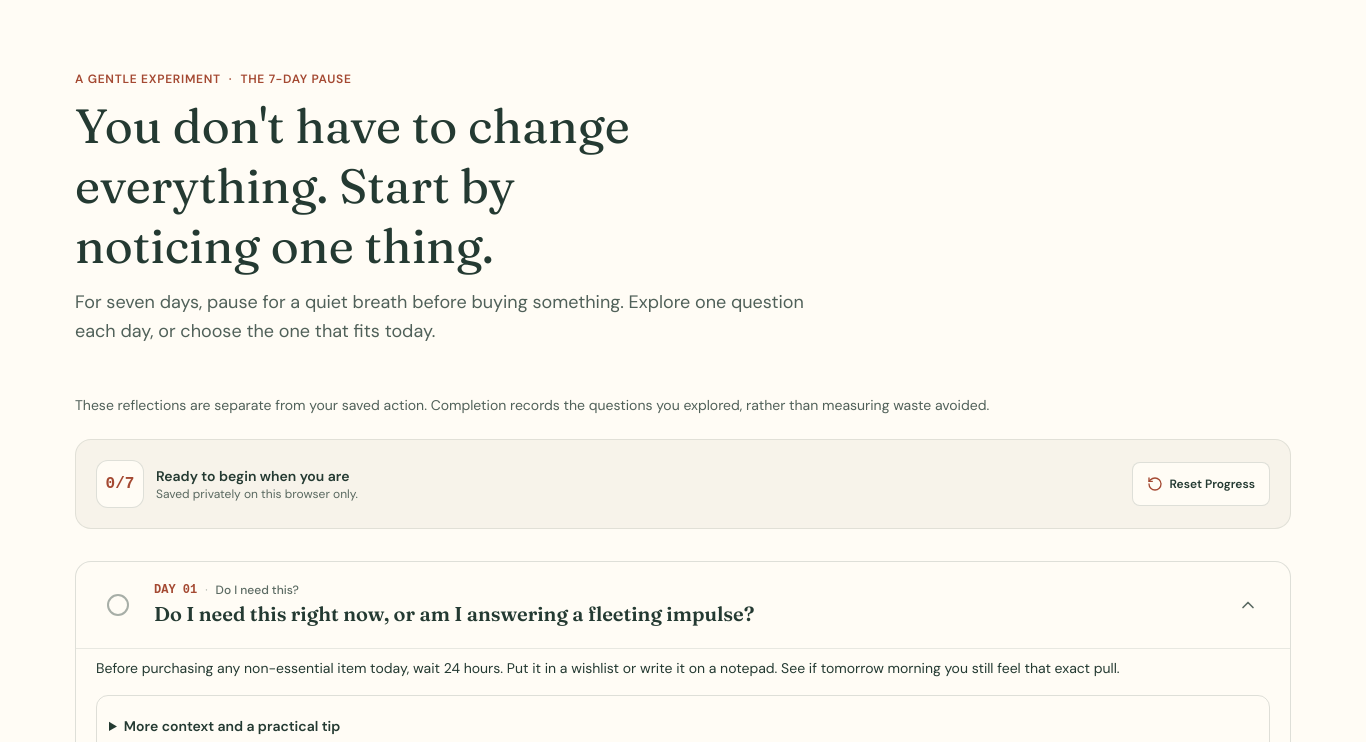
it: real application interactions › recovers malformed stored data and exposes reset for notes alone
This screenshot has width=1366, height=742.
What coordinates should you click on to do the following:
click the button "Reset Progress"
I would click on:
 (1201, 484)
Its box is [1132,462,1270,506].
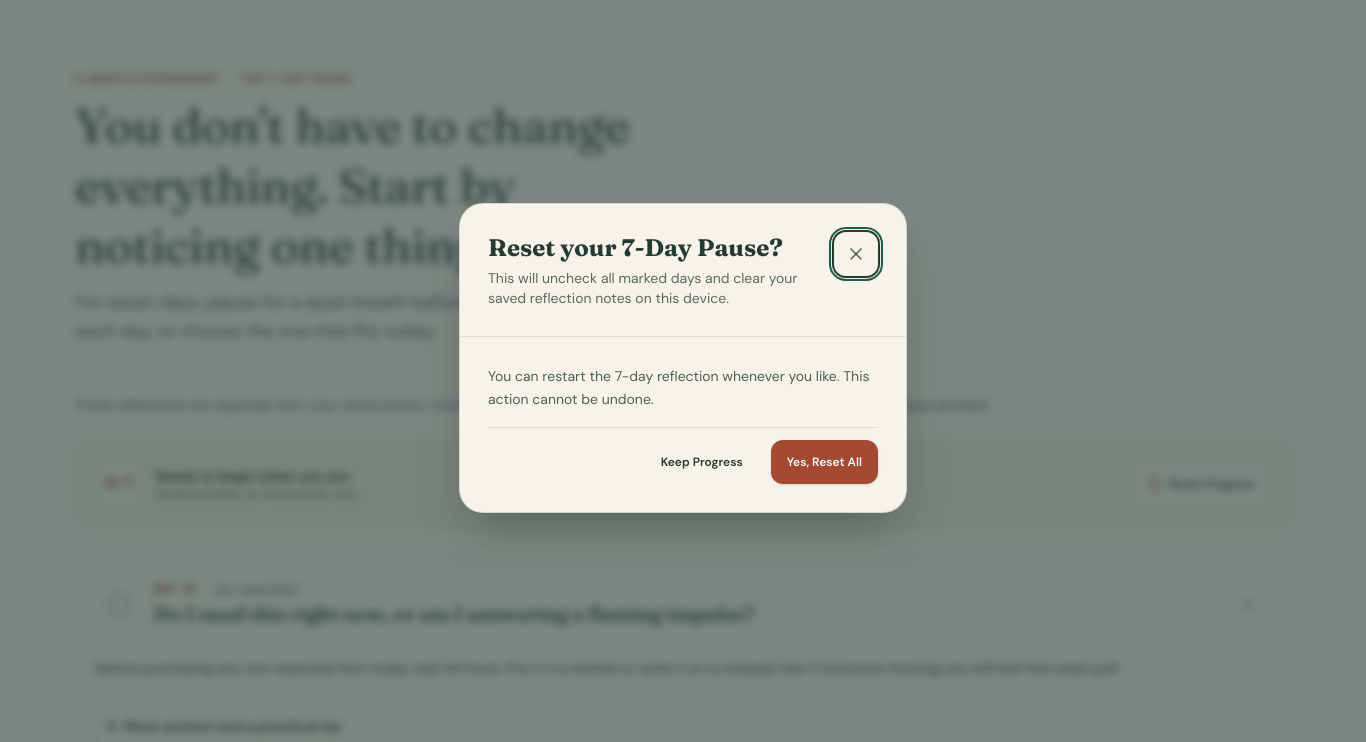
What coordinates should you click on to do the following:
click the button "Yes, Reset All"
I would click on:
 (824, 462)
Its box is [771,440,878,484].
(page scrolled)
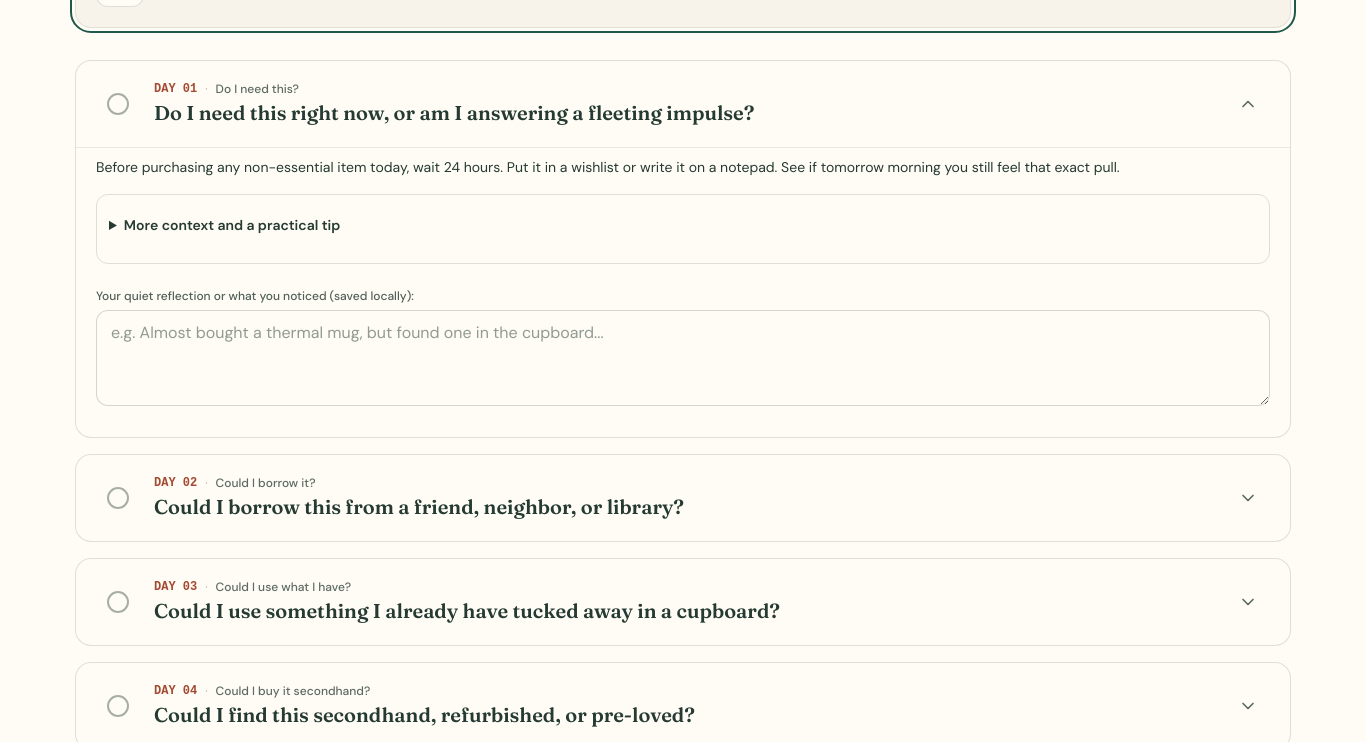
Expected: the text box labelled "Your quiet reflection or what you noticed (saved locally):" is empty, [96,310,1270,406]
